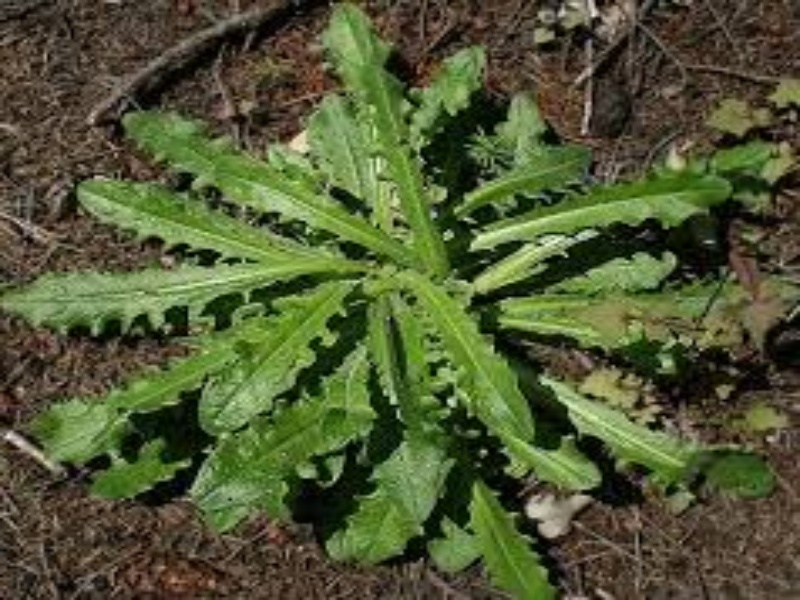weed: (89, 70, 693, 506)
